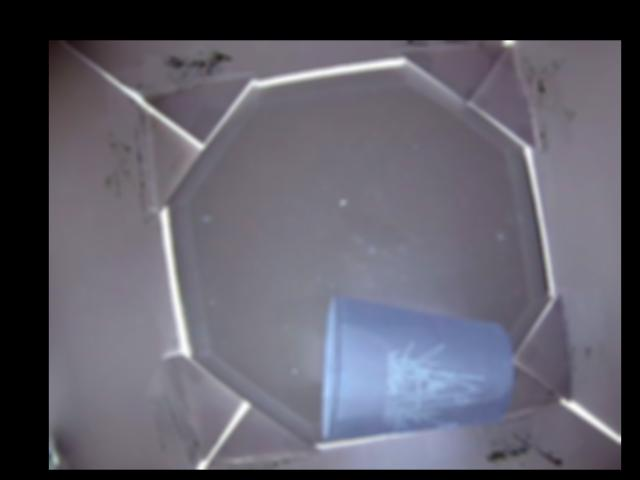Cup: (320, 297, 513, 440)
